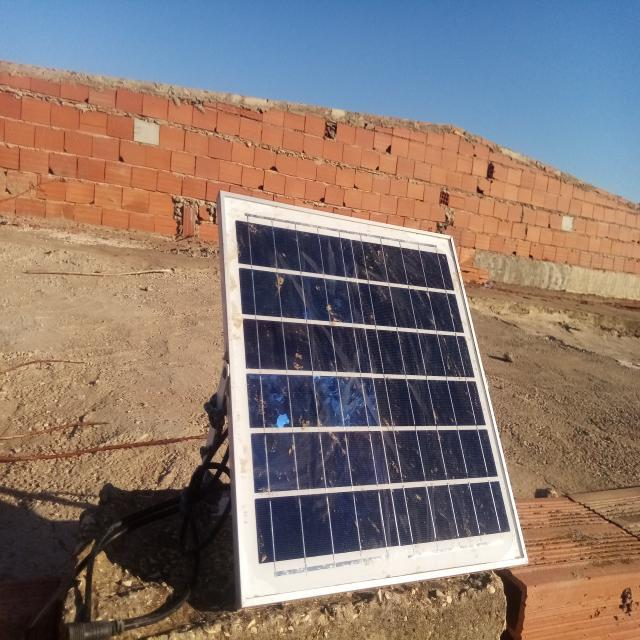faulty: (223, 193, 528, 603)
